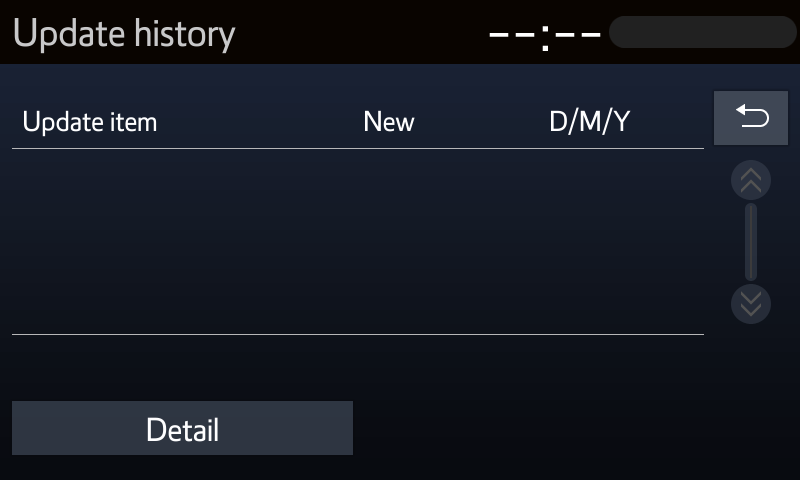touchPart: (6, 397, 358, 458), (712, 87, 789, 149)
untouchPart: (14, 93, 706, 346), (479, 9, 795, 56), (12, 10, 238, 58), (724, 160, 778, 327)
